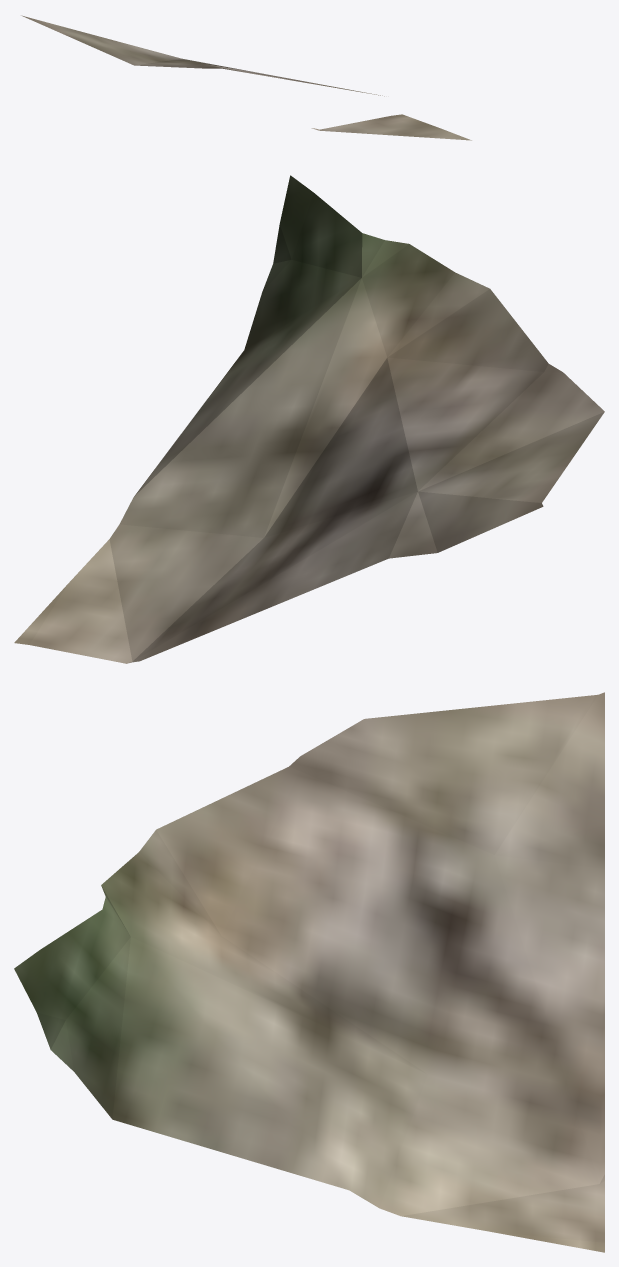
3 views of the same model, one above another, from view 1: azimuth 30°, elevation 25°; view 2: azimuth 150°, elevation 25°; view 3: azimuth 270°, elevation 25° (orthographic). The views are drawn at different scales.
Bounding box in the file's own units: 0.4712 × 0.2259 × 0.4258.
Materials: 1 (1 with a texture image).
